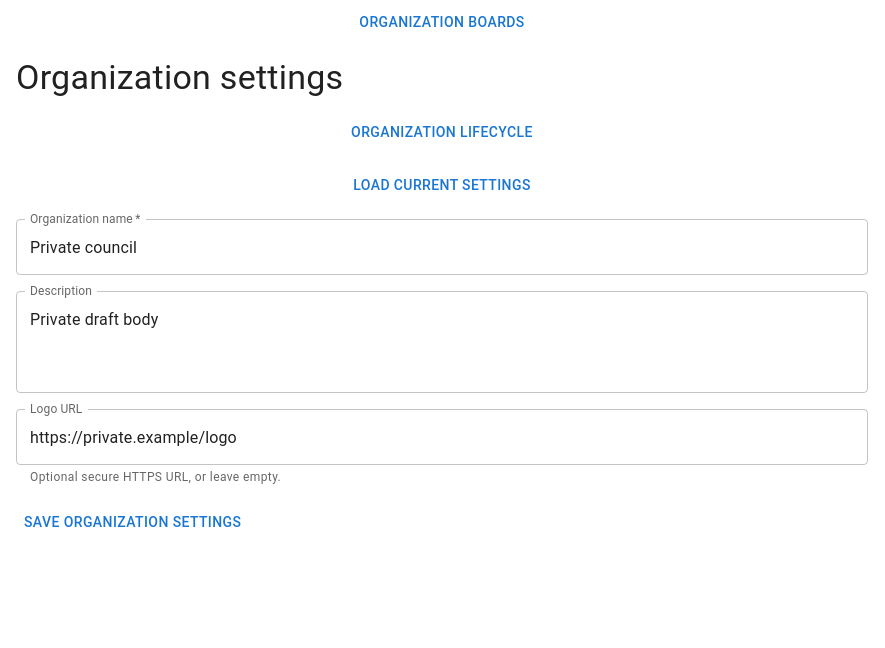
Test: reports one admitted open, explicit read retry and live recovery without protected settings
The width and height of the screenshot is (885, 648).
Expected: the field labelled "Organization name *" is shown, [16,220,868,276]
Click the button "Load current settings" at (442, 185), box [16,167,868,204]
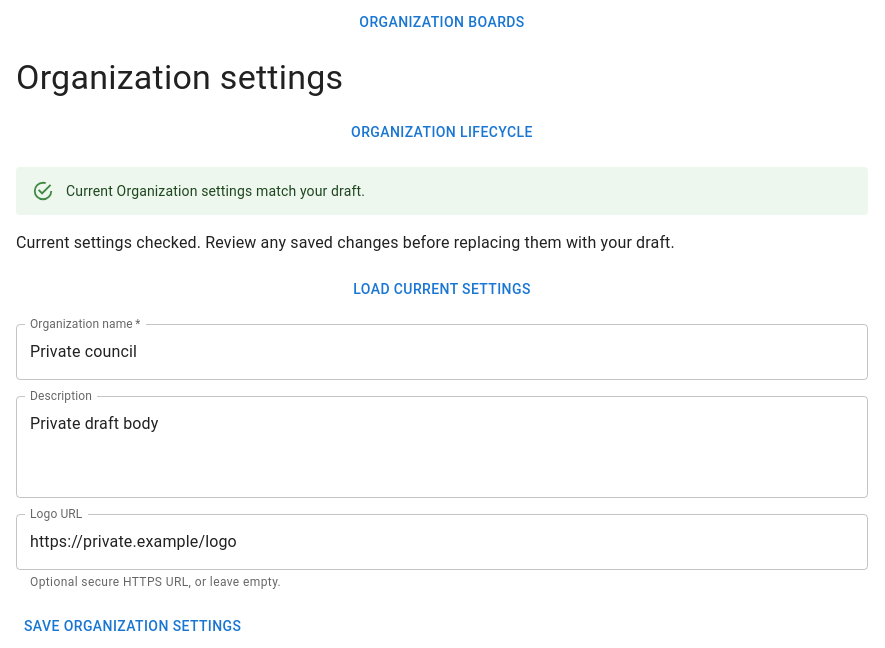
Expected: the text "Current Organization settings match your draft." is shown, [66,183,365,199]
Expected: the text "Current settings checked. Review any saved changes before replacing them with your draft." is shown, [16,233,675,252]
